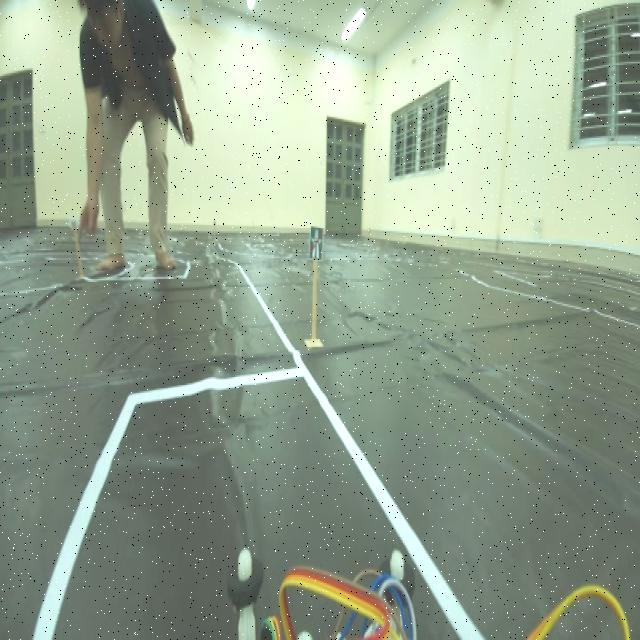highway_exit: (304, 212, 328, 278)
